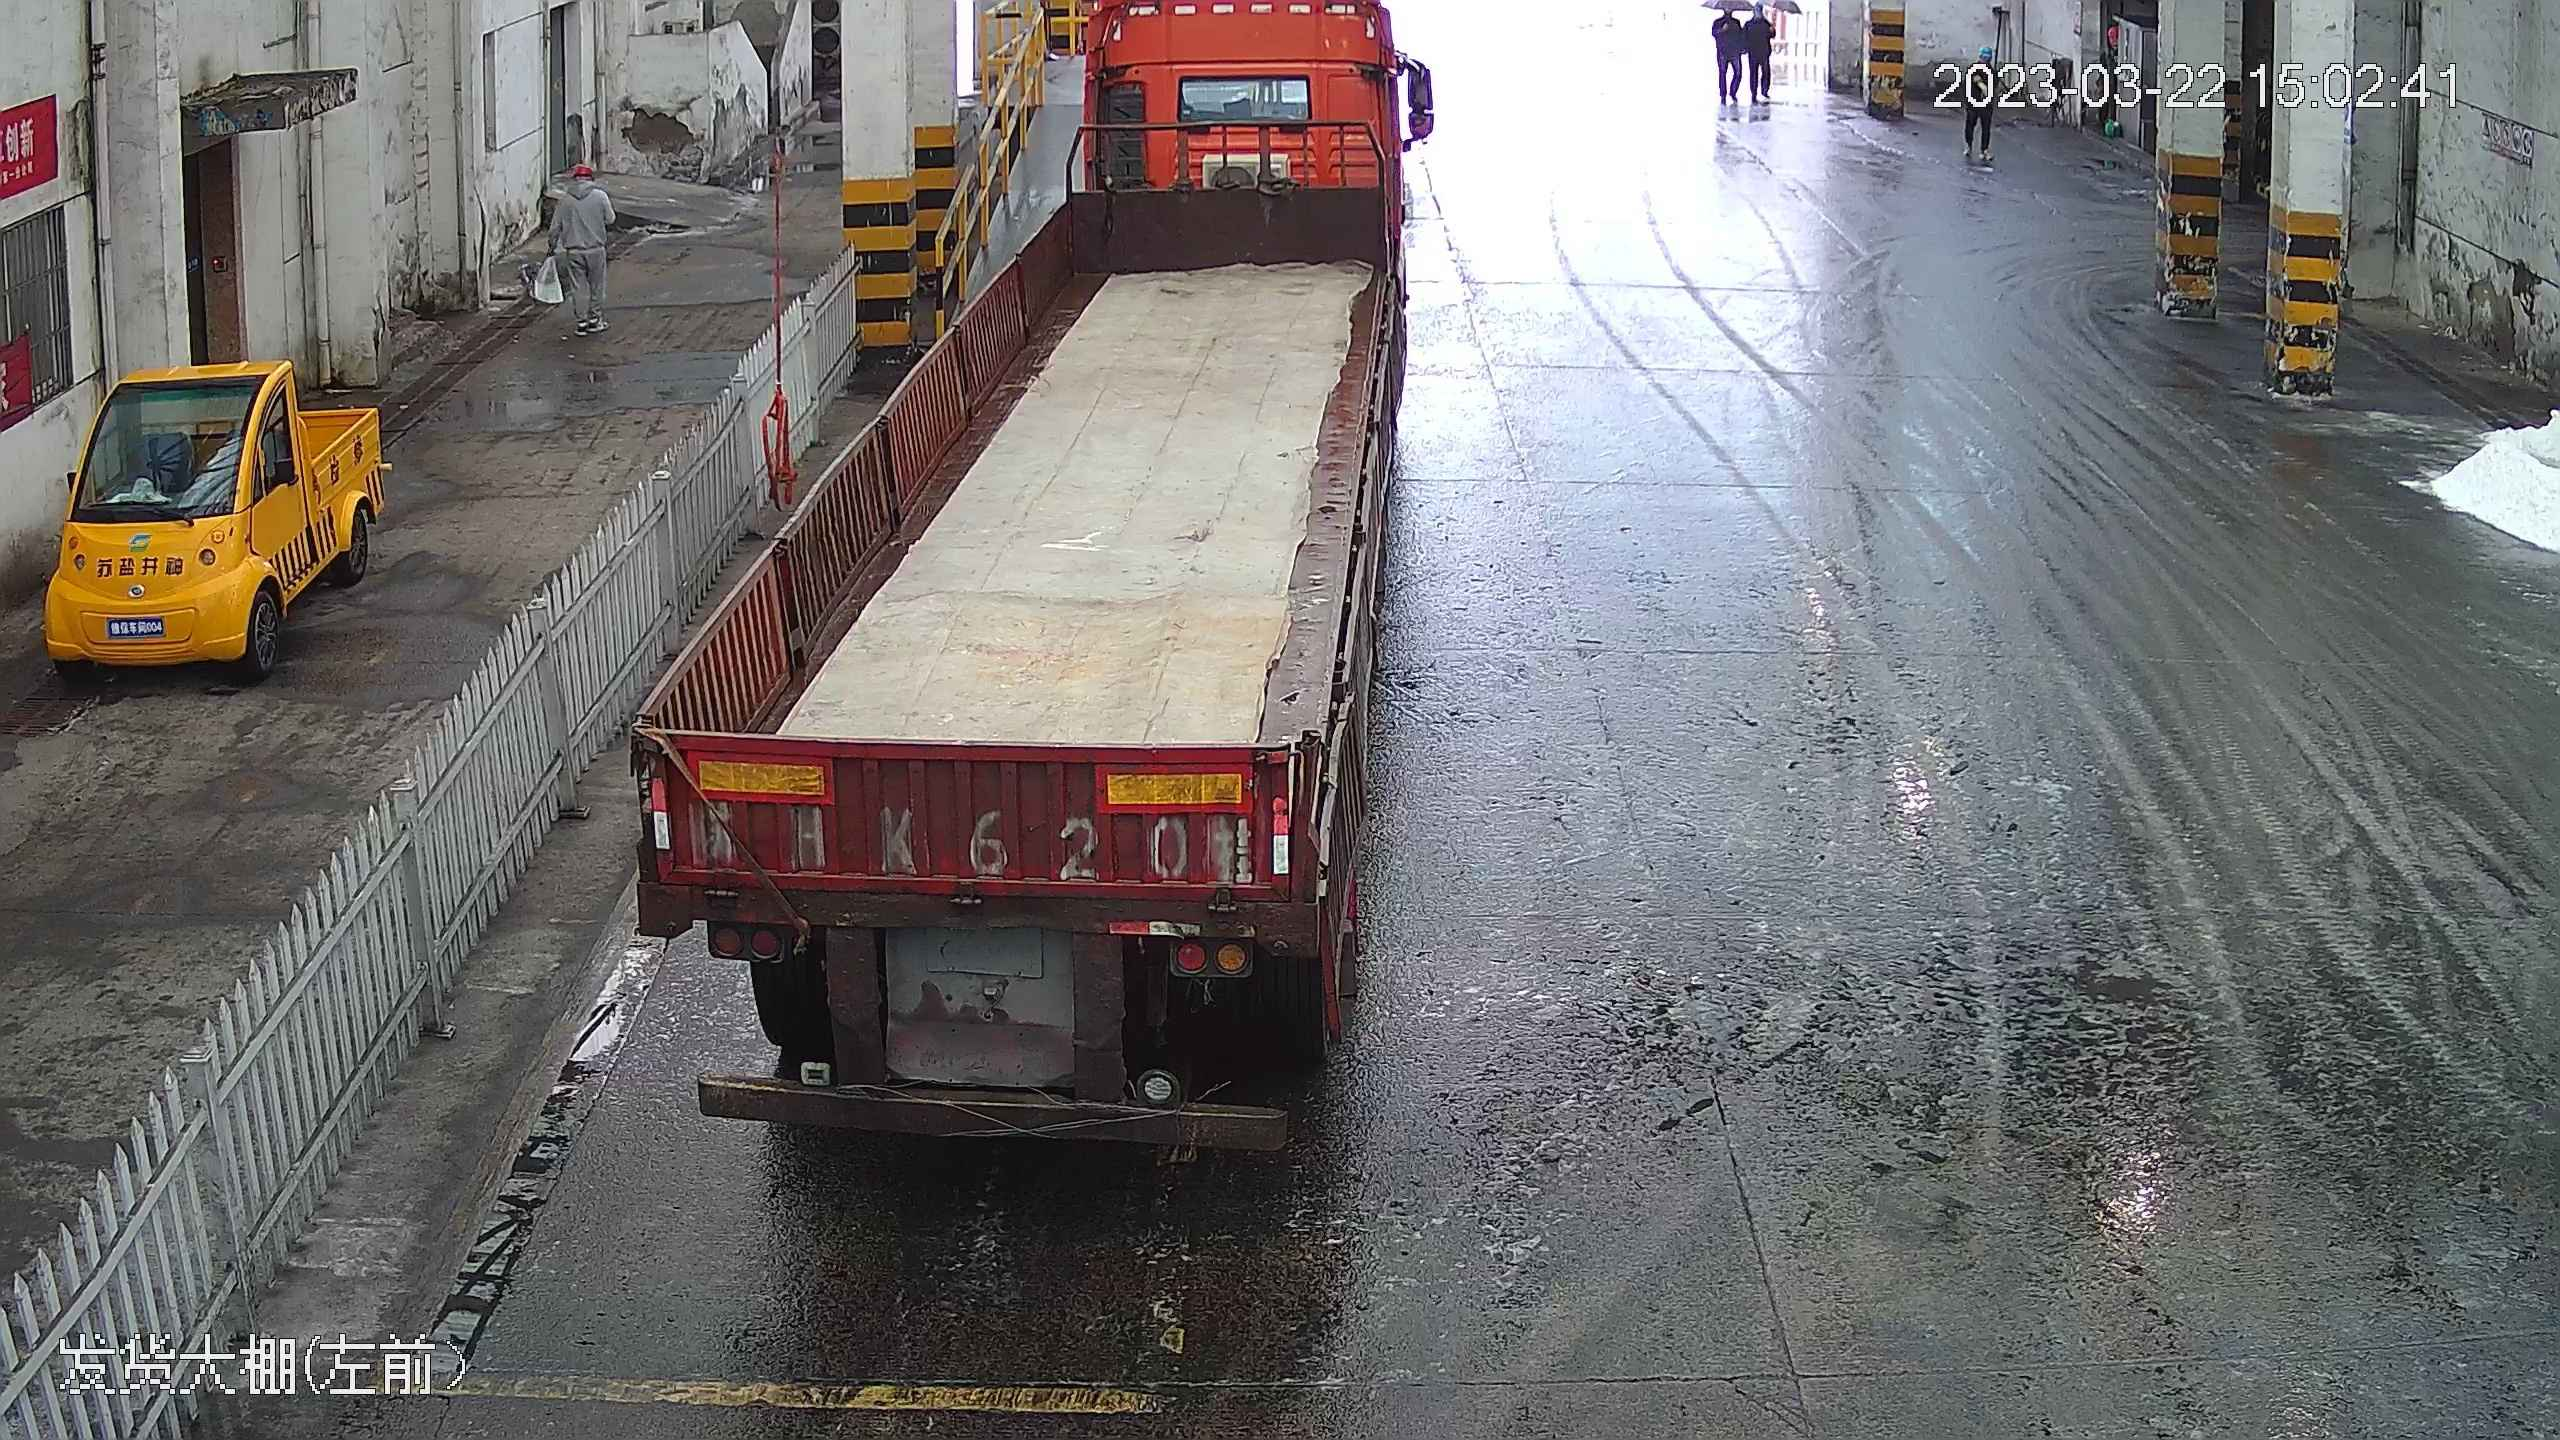head: (563, 159, 608, 214)
helmet: (570, 162, 595, 179)
people: (553, 156, 612, 331), (1747, 3, 1781, 110), (1707, 1, 1740, 109)
truck: (621, 1, 1446, 1131)
